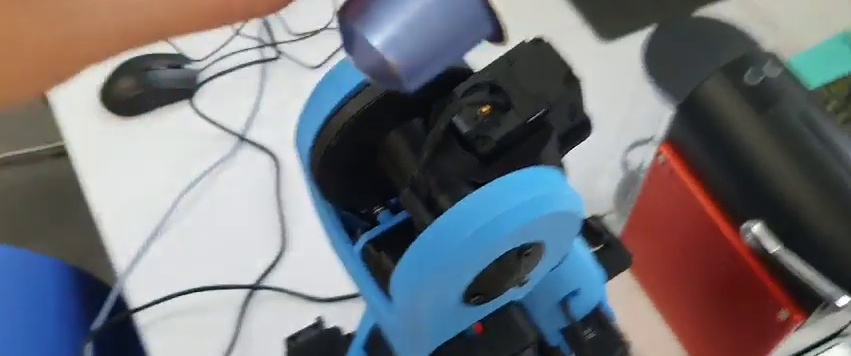capsule_7: (333, 1, 509, 95)
